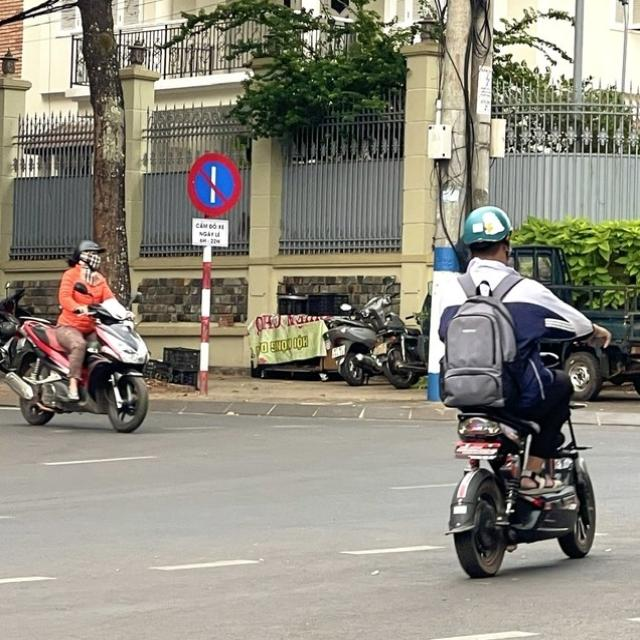helmet: (456, 202, 517, 247)
